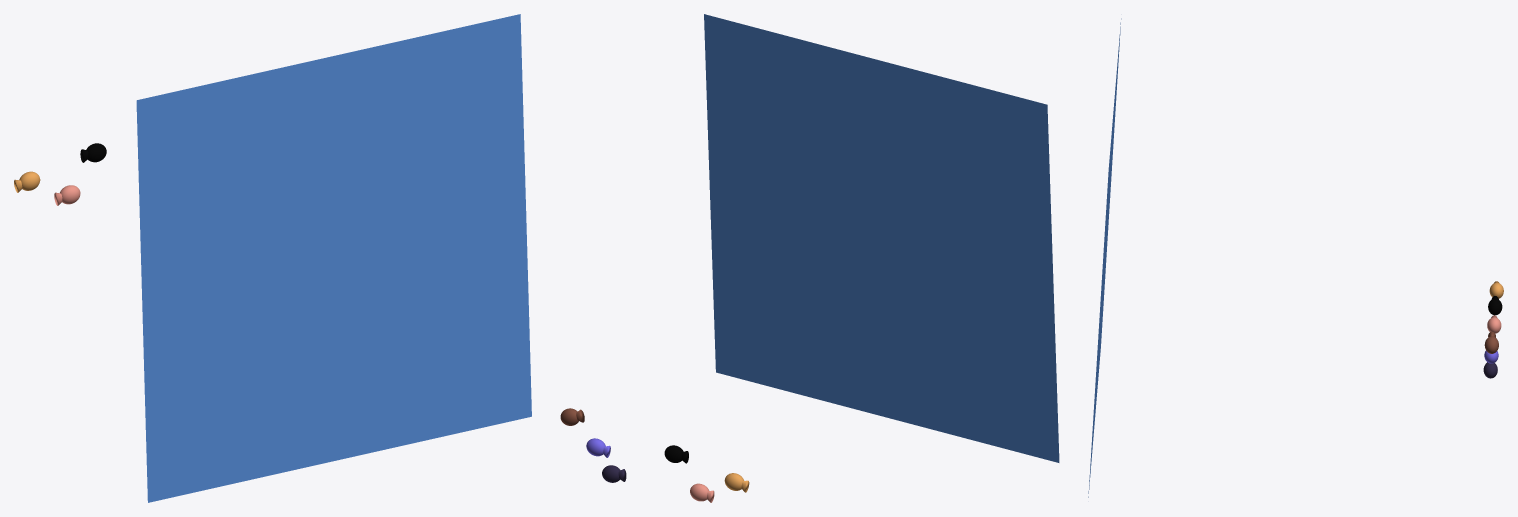
Rendered from page8.glb.
3 renders of one model, left to right at view 1: azimuth 30°, elevation 25°; view 2: azimuth 150°, elevation 25°; view 3: azimuth 270°, elevation 25°, orthographic. The views are drawn at different scales.
Parts seen in each view (by area): view 1: Plane; view 2: Plane; view 3: Plane.
Part boxes in pixels (box(x1,y1,x2,y2)): Plane: box(136, 14, 531, 502); Plane: box(704, 14, 1059, 462); Plane: box(1088, 18, 1121, 497).
Bounding box in the file's own units: 2.25 × 2.24 × 2.53.
